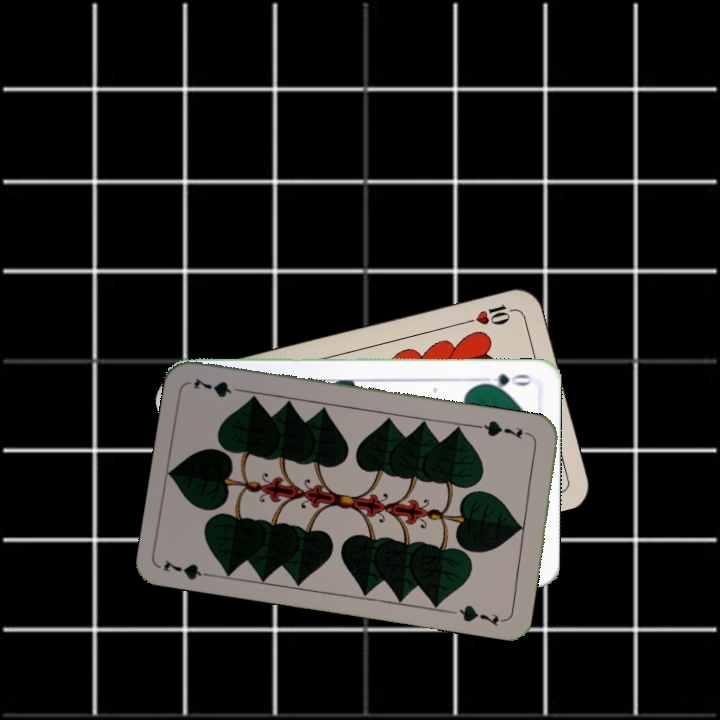G7: (159, 556, 219, 583), (475, 416, 534, 442)
GO: (476, 369, 535, 392)
H10: (460, 300, 518, 328)
